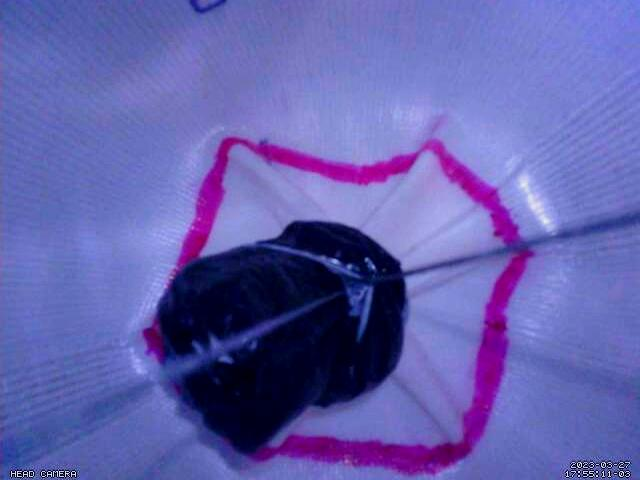red-circle: (143, 135, 532, 480)
